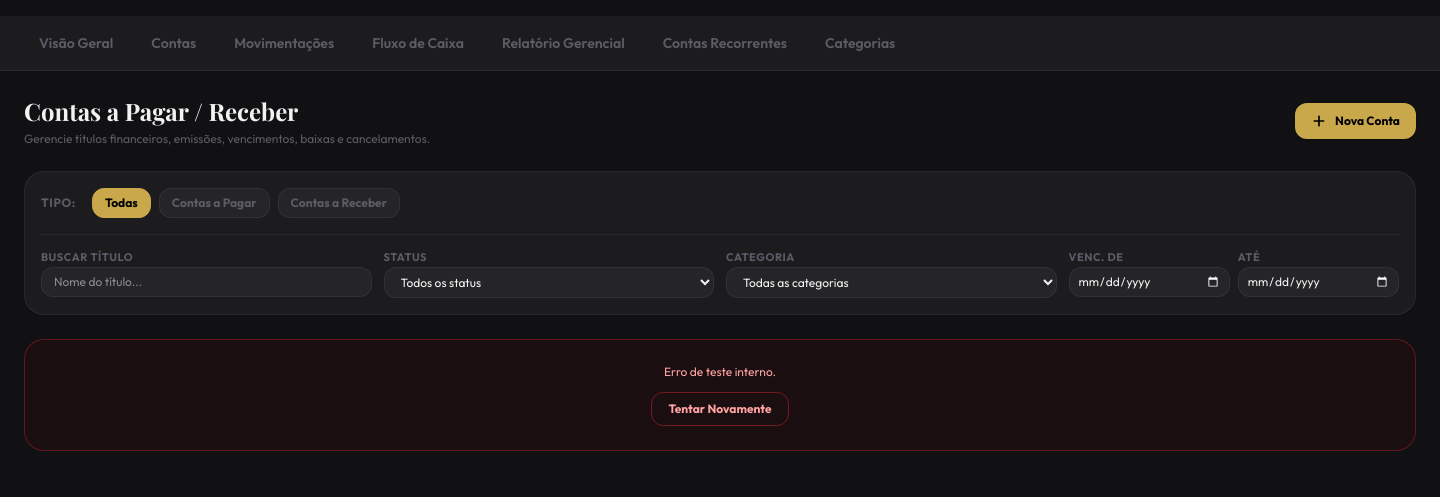
Test: Contas a Pagar / Receber — UX-B UI Tests › 2. Renderiza estado de erro genérico HTTP 500 e botão Tentar Novamente
The image size is (1440, 497).
Expected: the text "Erro de teste interno." is shown, [664,364,776,379]
Click the button "Tentar Novamente" at (720, 409), box [651,392,789,426]
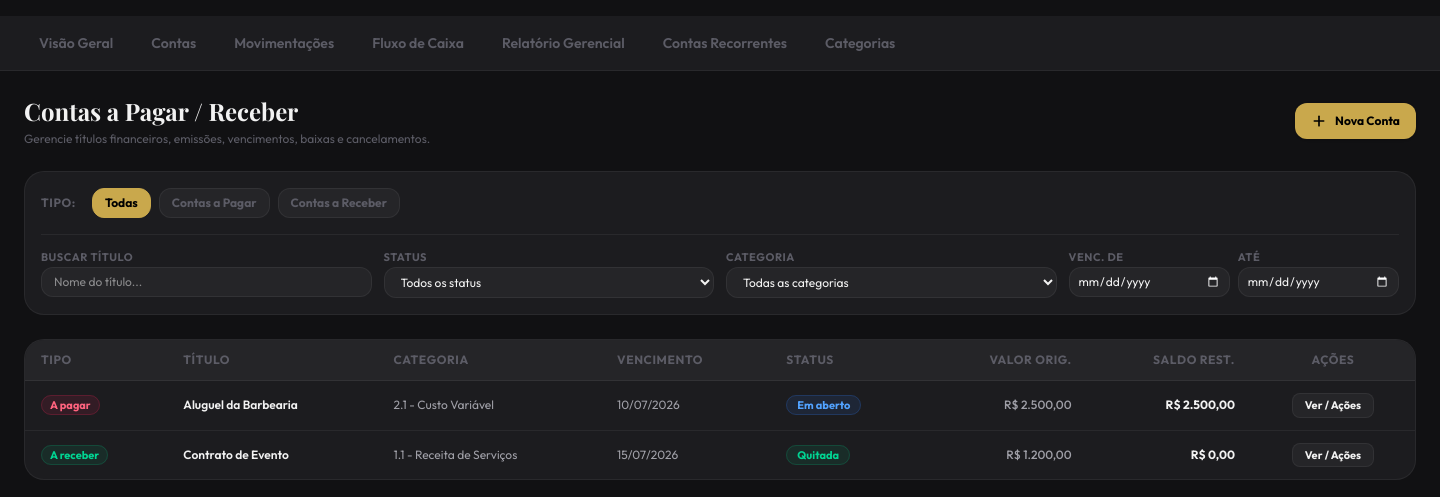
Result: the text "Aluguel da Barbearia" is shown at [167,380,378,430]
